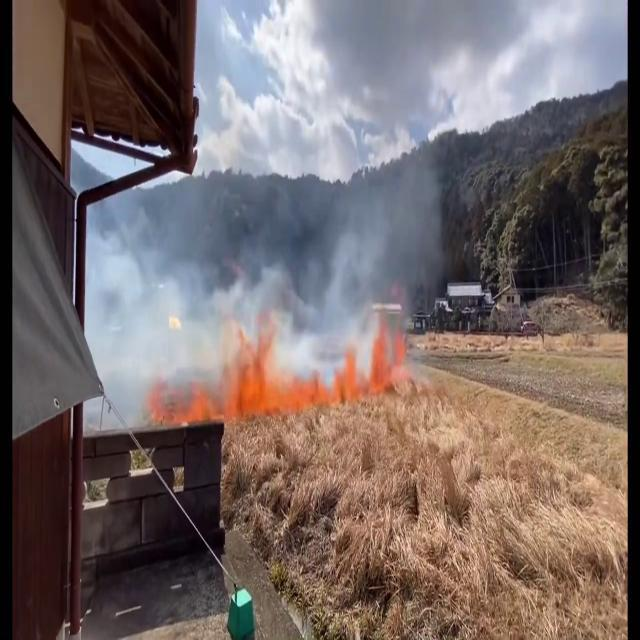Fire: (153, 329, 436, 422)
Smoke: (73, 110, 461, 354)
